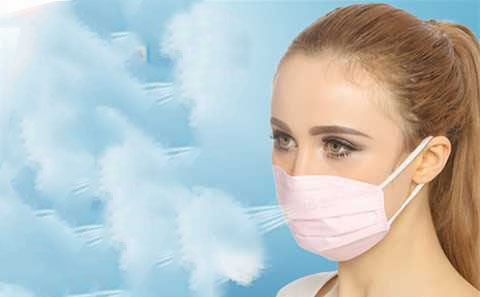face_mask: (269, 68, 402, 263)
